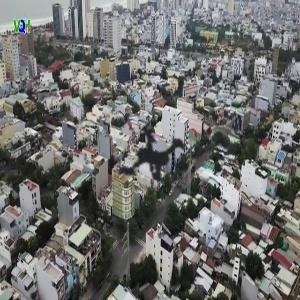drone: (48, 51, 251, 254)
